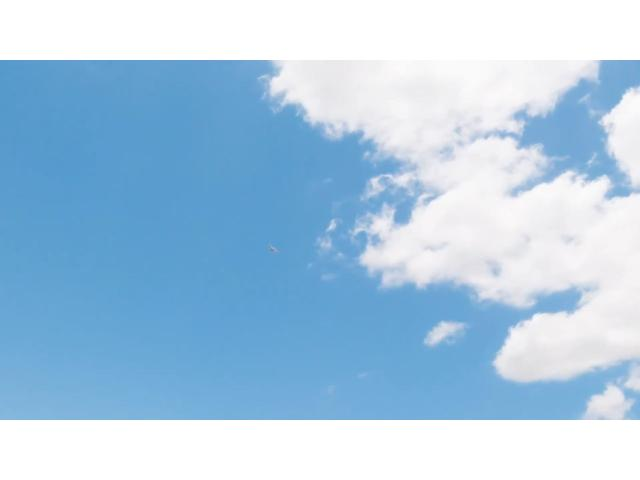Anti-Drone: (264, 242, 282, 256)
